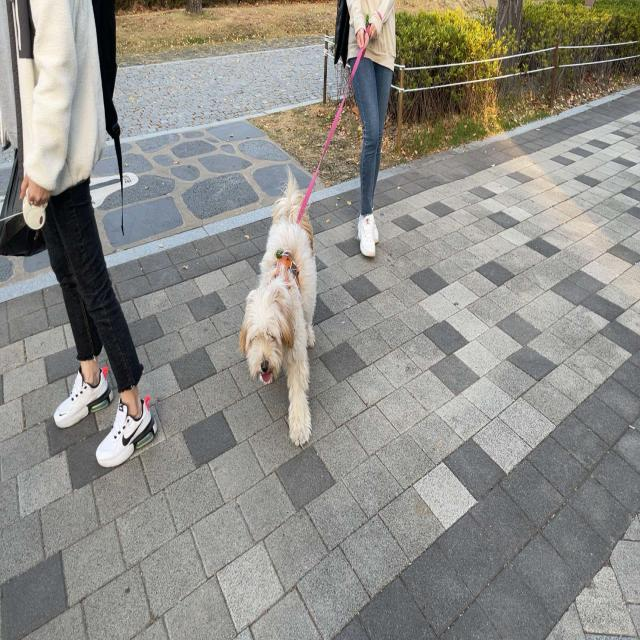Leashed_Dog: (238, 14, 375, 451)
